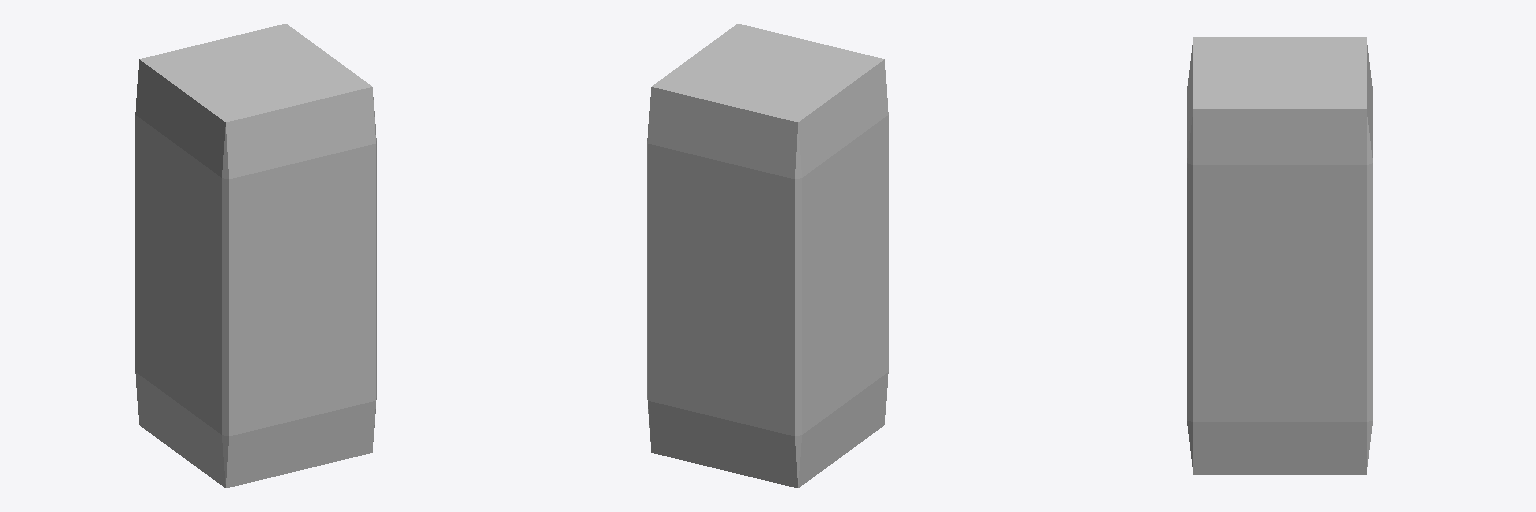
File: base_lampshade.obj
3 views of the same model, side by side, from view 1: azimuth 30°, elevation 25°; view 2: azimuth 150°, elevation 25°; view 3: azimuth 270°, elevation 25° (orthographic).
Visible parts, largest first — view 1: Plane.002; view 2: Plane.002; view 3: Plane.002.
Part boxes in pixels (left/top/right/bottom): Plane.002: left=135, top=24, right=376, bottom=487; Plane.002: left=647, top=24, right=888, bottom=487; Plane.002: left=1187, top=37, right=1372, bottom=474.
Bounding box in the file's own units: 0.0594 × 0.1344 × 0.062.